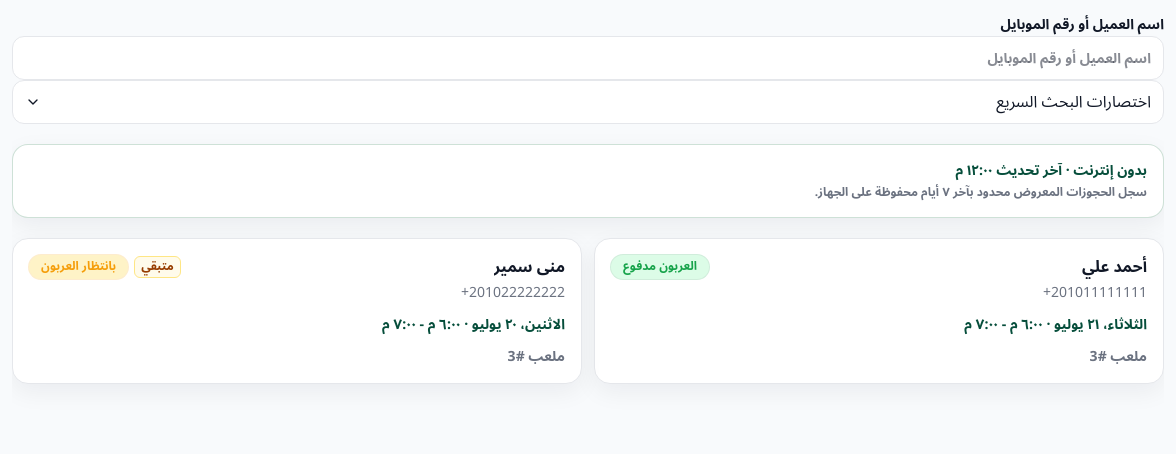
BookingsListPage › searches cached Booking names and phones locally while offline
Check: the text "أحمد علي" is shown, box [1082,255,1147,279]
Type "0222" into the search field labelled "اسم العميل أو رقم الموبايل". click: (588, 58)
box: [12,36,1164,80]
Wait 350 ms
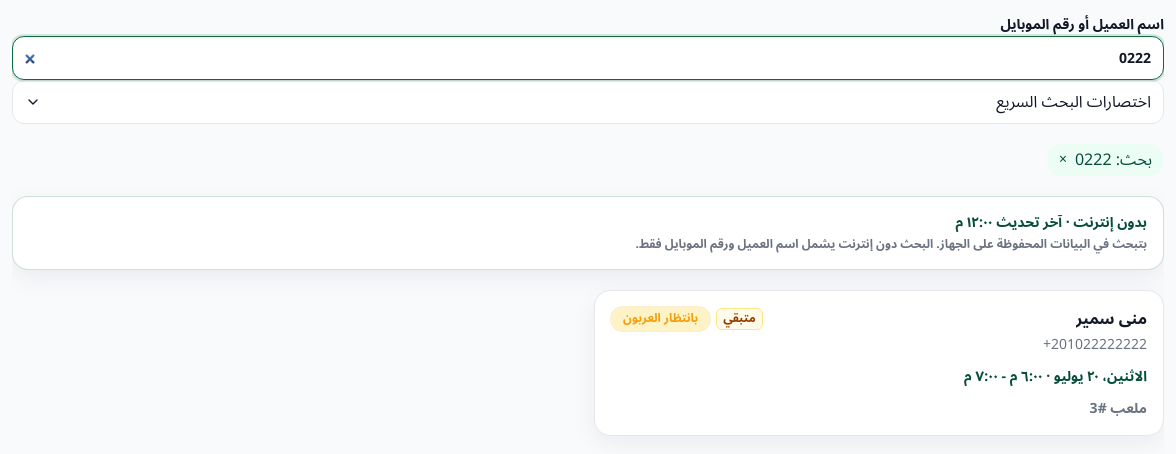
Check: the text "منى سمير" is shown, box [1076,307,1147,331]
Check: the button "أحمد علي" is gone
Check: the text "بتبحث في البيانات المحفوظة" is shown, box [636,232,1147,257]
